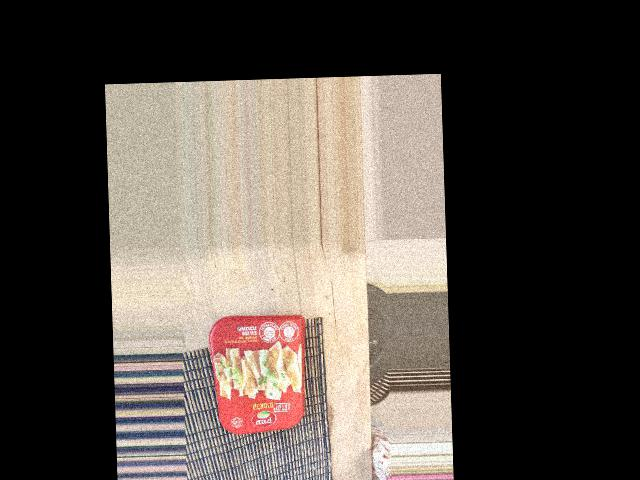cheese: (178, 398, 314, 480)
